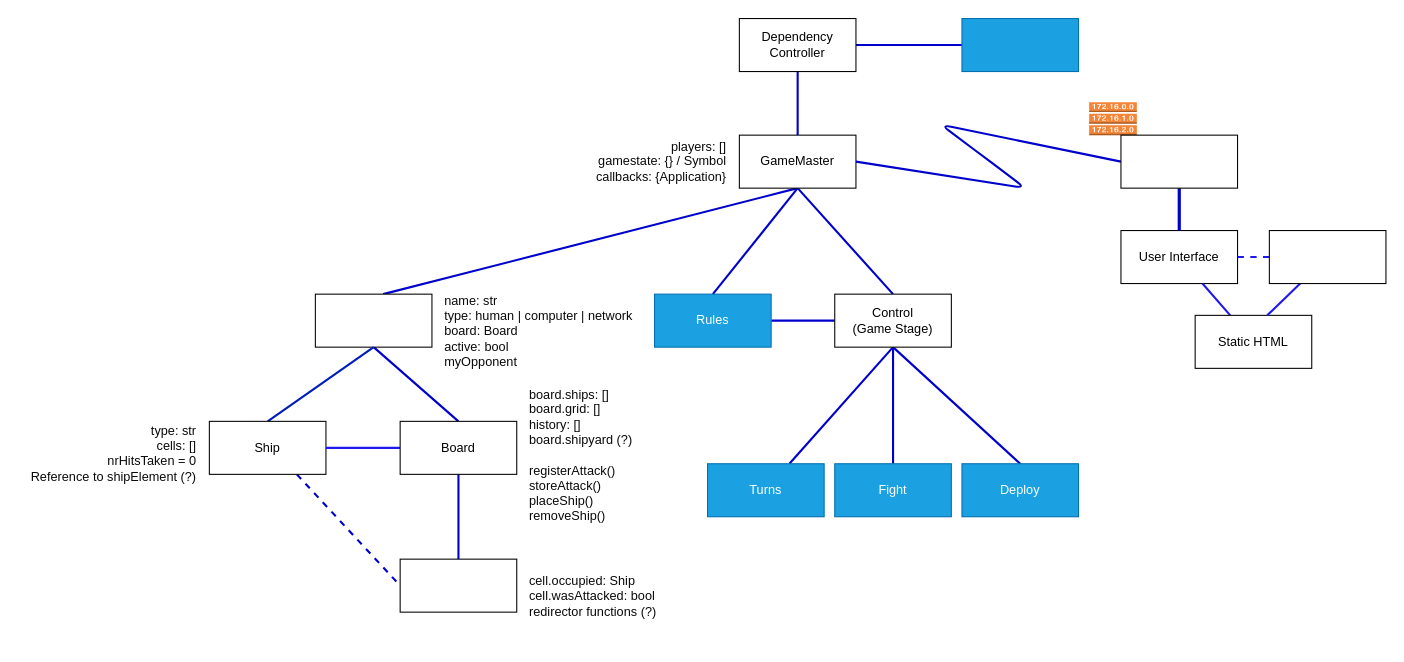
Image size: 1404x662. Some labels were removed from this diagram. The shapes that lost their labels are listed below. From the top down, each one's centre as x and y in pixels, then its label:
At (x=1020, y=44): "Tests".
At (x=1179, y=161): "WebSocket Client".
At (x=1327, y=256): "Main Menu".
At (x=373, y=320): "Player".
At (x=458, y=585): "Cell".
